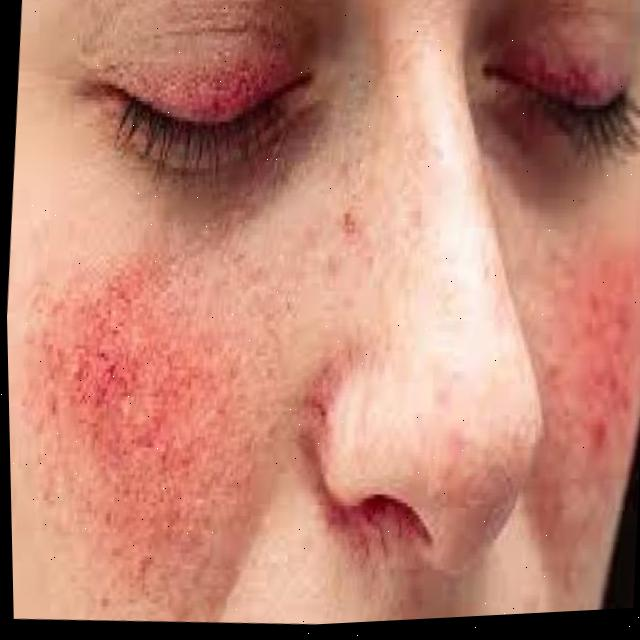Rosacea: (29, 226, 280, 564), (550, 251, 640, 490)
